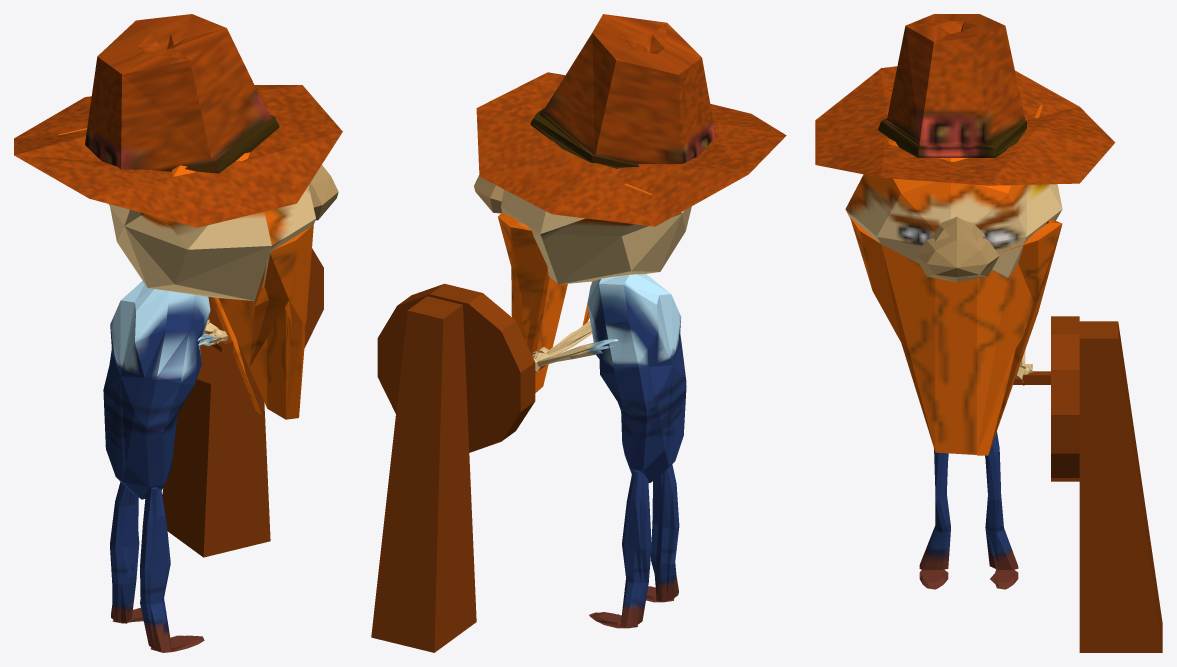
File: BitTurn.glb
3 renders of one model, left to right at view 1: azimuth 30°, elevation 25°; view 2: azimuth 150°, elevation 25°; view 3: azimuth 270°, elevation 25°, orthographic. The views are drawn at different scales.
Parts seen in each view (by area): view 1: BitTurn; view 2: BitTurn; view 3: BitTurn.
Part boxes in pixels (x1,y1,x2,y2): BitTurn: (14,14,342,652); BitTurn: (371,14,786,652); BitTurn: (815,14,1162,652).
Bounding box in the file's own units: 341 × 572 × 323.
1 material, 1 textured.
